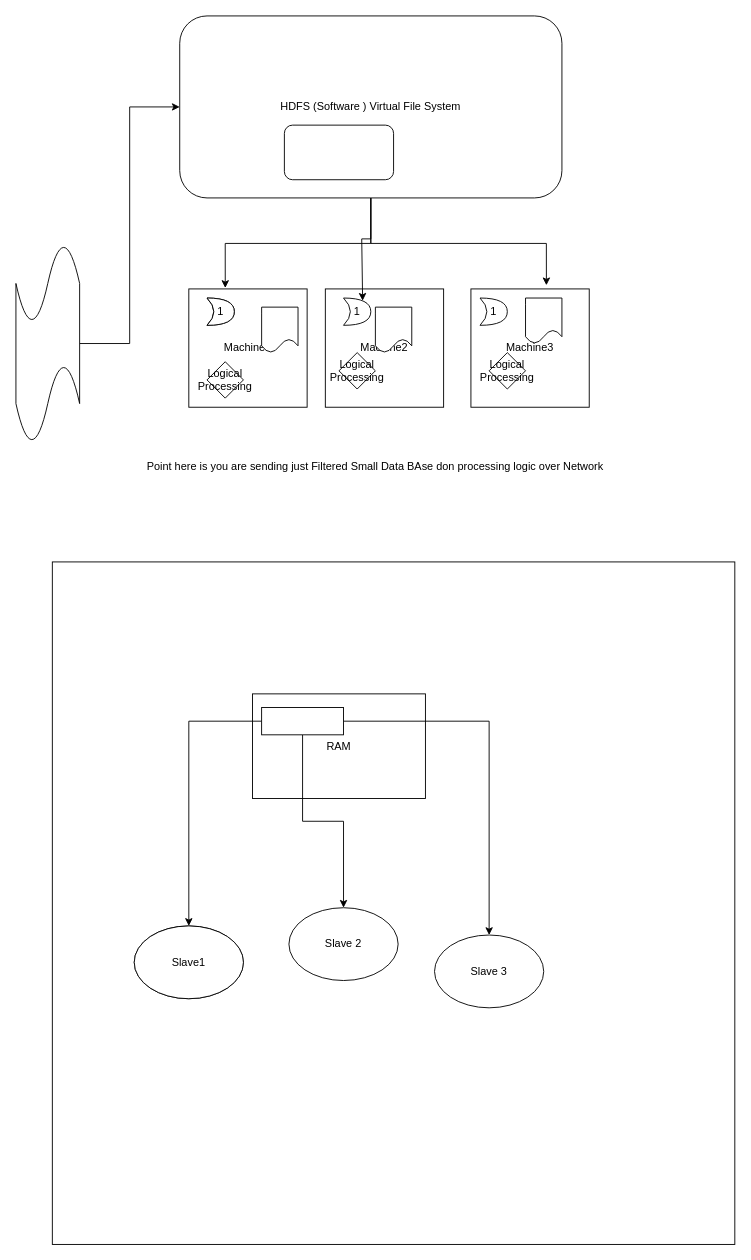
This 751x1260 diagram has some shape labels left out. The shapes that lost their labels are listed below. From the top down, each one's centre as x and y in pixels, then its label:
At [338,152]: "Name node (Meta data in RAM )".
At [279,329]: "Filtered A".
At [393,329]: "Filtered B".
At [543,320]: "Filtered C".
At [47,343]: "3 GB".
At [302,721]: "Name Node".
